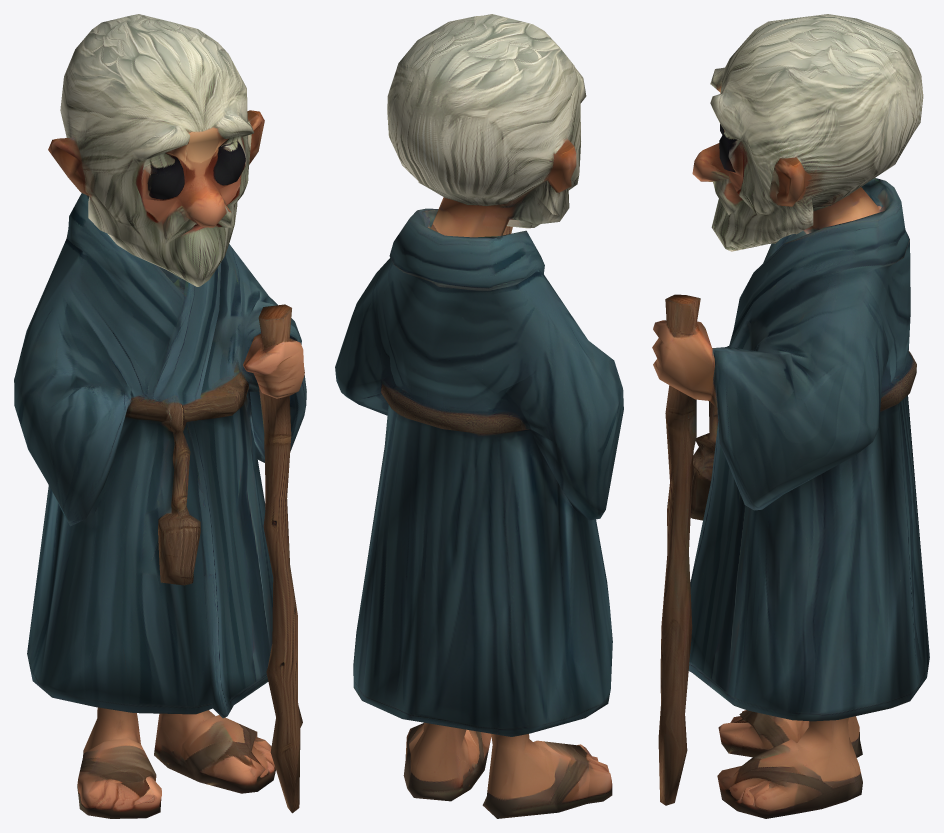
The model's file is npc-elder.glb.
The picture shows the model from 3 angles, left to right: view 1: azimuth 30°, elevation 25°; view 2: azimuth 150°, elevation 25°; view 3: azimuth 270°, elevation 25°; orthographic projection. The views are drawn at different scales.
Visible parts, largest first — view 1: Mesh_0; view 2: Mesh_0; view 3: Mesh_0.
Boxes of the visible parts, x1,y1,x2,y2 form: Mesh_0: (14,14,306,818); Mesh_0: (335,14,623,818); Mesh_0: (652,14,929,818).
Bounding box in the file's own units: 0.6278 × 1.7 × 0.5703.
1 material, 1 textured.
